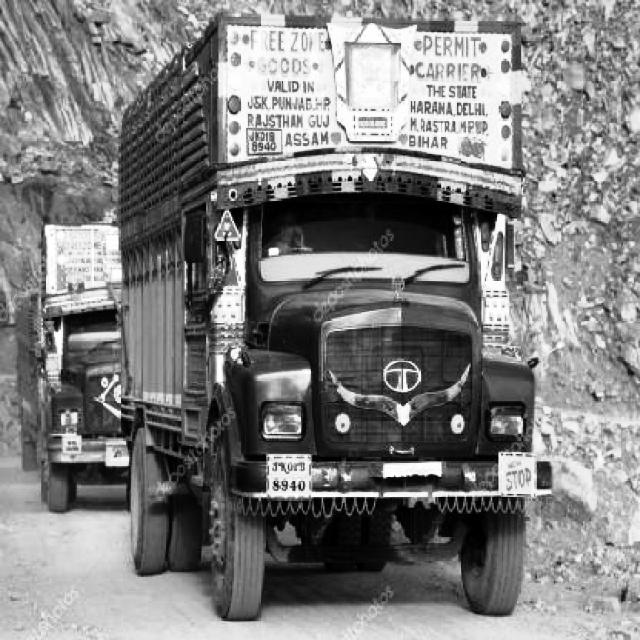HCV: (126, 78, 544, 581), (28, 214, 174, 466)
